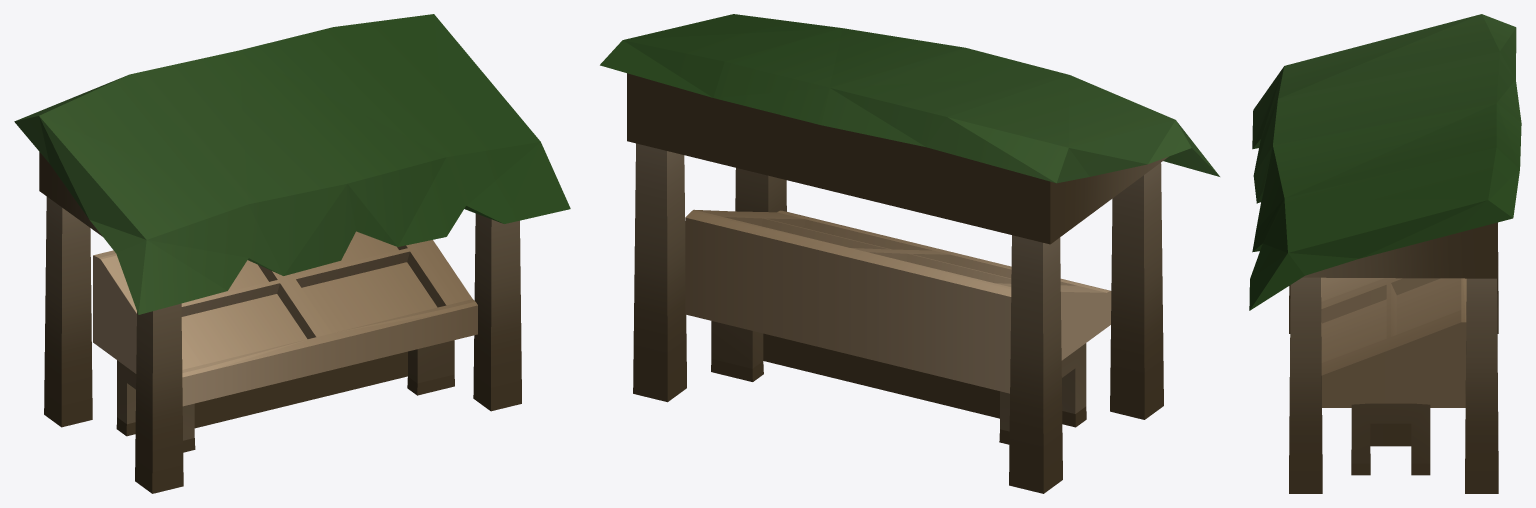
Rendered from MarketStall_A.fbx.
The picture shows the model from 3 angles, left to right: view 1: azimuth 30°, elevation 25°; view 2: azimuth 150°, elevation 25°; view 3: azimuth 270°, elevation 25°; orthographic projection. The views are drawn at different scales.
Parts seen in each view (by area): view 1: MarketStall_Roof_Green.001, MarketStall_Tray_4.001, MarketStall_Pillars.001, MarketStall_Table_Flat.001; view 2: MarketStall_Pillars.001, MarketStall_Roof_Green.001, MarketStall_Tray_4.001, MarketStall_Table_Flat.001; view 3: MarketStall_Roof_Green.001, MarketStall_Pillars.001, MarketStall_Tray_4.001, MarketStall_Table_Flat.001.
Part boxes in pixels (bbox=[...]): MarketStall_Roof_Green.001: bbox=[14, 14, 570, 314]; MarketStall_Tray_4.001: bbox=[93, 231, 477, 406]; MarketStall_Pillars.001: bbox=[39, 152, 521, 493]; MarketStall_Table_Flat.001: bbox=[116, 340, 454, 452]; MarketStall_Pillars.001: bbox=[627, 73, 1168, 493]; MarketStall_Roof_Green.001: bbox=[600, 14, 1219, 183]; MarketStall_Tray_4.001: bbox=[685, 209, 1111, 393]; MarketStall_Table_Flat.001: bbox=[711, 321, 1086, 444]; MarketStall_Roof_Green.001: bbox=[1249, 14, 1521, 310]; MarketStall_Pillars.001: bbox=[1289, 222, 1498, 493]; MarketStall_Tray_4.001: bbox=[1321, 277, 1466, 407]; MarketStall_Table_Flat.001: bbox=[1351, 403, 1430, 475].
Bounding box in the file's own units: 3.04 × 2.15 × 1.72.
Materials: 1 (1 with a texture image).
